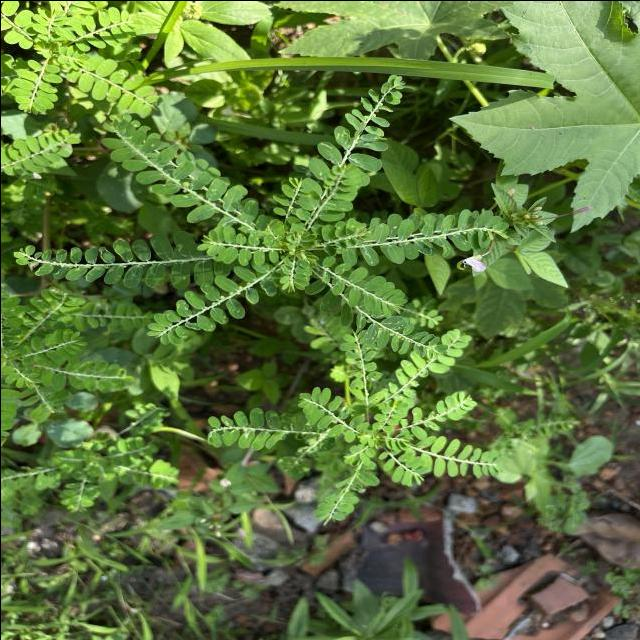Phyllanthus niruri: (293, 70, 407, 222), (96, 118, 247, 224), (10, 230, 203, 290), (318, 207, 510, 266), (140, 265, 274, 346), (63, 56, 164, 118), (310, 256, 406, 316), (384, 328, 472, 392), (308, 460, 376, 526), (194, 223, 284, 266), (411, 438, 506, 478), (296, 388, 366, 442), (11, 51, 68, 115), (394, 395, 476, 438), (200, 412, 292, 448), (374, 398, 402, 438)
